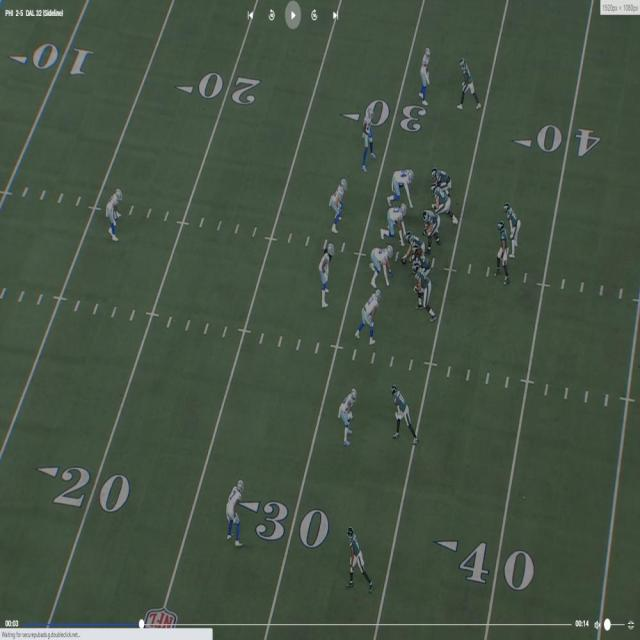center: (406, 234, 424, 261)
db: (340, 384, 360, 444), (224, 479, 243, 542), (105, 184, 123, 242), (362, 108, 376, 158), (422, 44, 433, 105)
lb: (361, 290, 381, 344), (321, 246, 334, 308), (330, 182, 346, 231)
qb: (495, 220, 509, 276)
skill: (347, 526, 369, 588), (458, 54, 477, 108), (395, 385, 414, 437), (503, 203, 520, 260), (432, 166, 453, 192)
